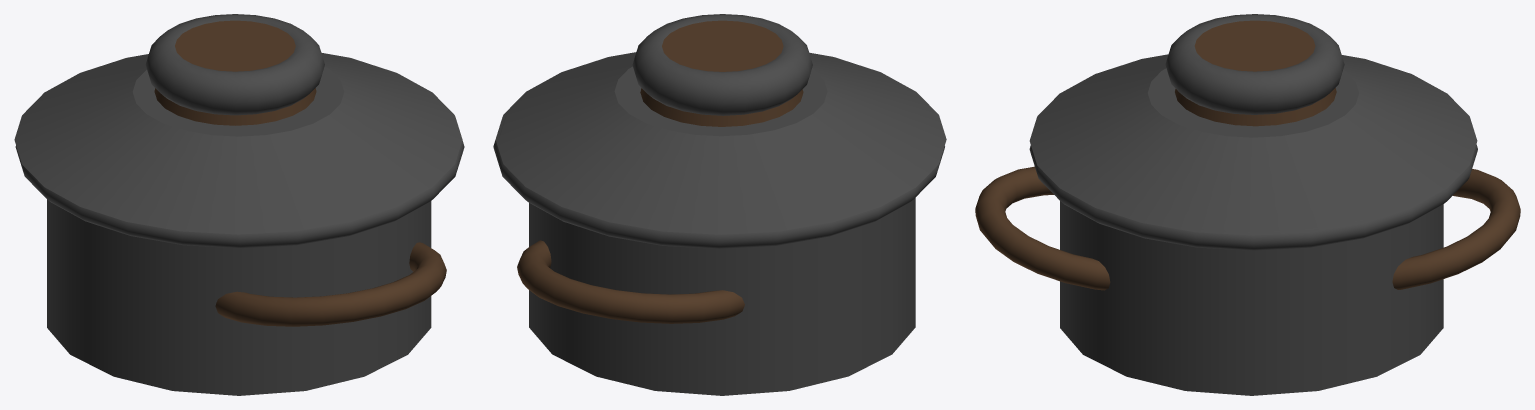
File: Olla1.fbx
The picture shows the model from 3 angles, left to right: view 1: azimuth 30°, elevation 25°; view 2: azimuth 150°, elevation 25°; view 3: azimuth 270°, elevation 25°; orthographic projection.
Parts seen in each view (by area): view 1: Cone003, Cylinder005, Torus003, Torus001, Cone004, Torus004; view 2: Cone003, Cylinder005, Torus003, Torus002, Cone004, Torus004; view 3: Cone003, Cylinder005, Torus003, Torus004, Cone004, Torus001, Torus002.
Boxes of the visible parts, x1,y1,x2,y2 form: Cone003: (14, 52, 462, 234); Cylinder005: (47, 199, 431, 395); Torus003: (145, 14, 324, 115); Torus001: (215, 242, 446, 326); Cone004: (154, 20, 316, 125); Torus004: (15, 58, 464, 248); Cone003: (495, 52, 946, 234); Cylinder005: (529, 198, 915, 395); Torus003: (632, 14, 812, 115); Torus002: (517, 240, 744, 323); Cone004: (640, 20, 803, 126); Torus004: (493, 72, 944, 248); Cone003: (1029, 54, 1477, 235); Cylinder005: (1060, 201, 1443, 395); Torus003: (1165, 14, 1344, 114); Torus004: (1029, 144, 1477, 250); Cone004: (1175, 20, 1336, 126); Torus001: (975, 166, 1110, 290); Torus002: (1392, 169, 1520, 289).
Size of the model in its own units: 8.12 by 5.34 by 9.84.
